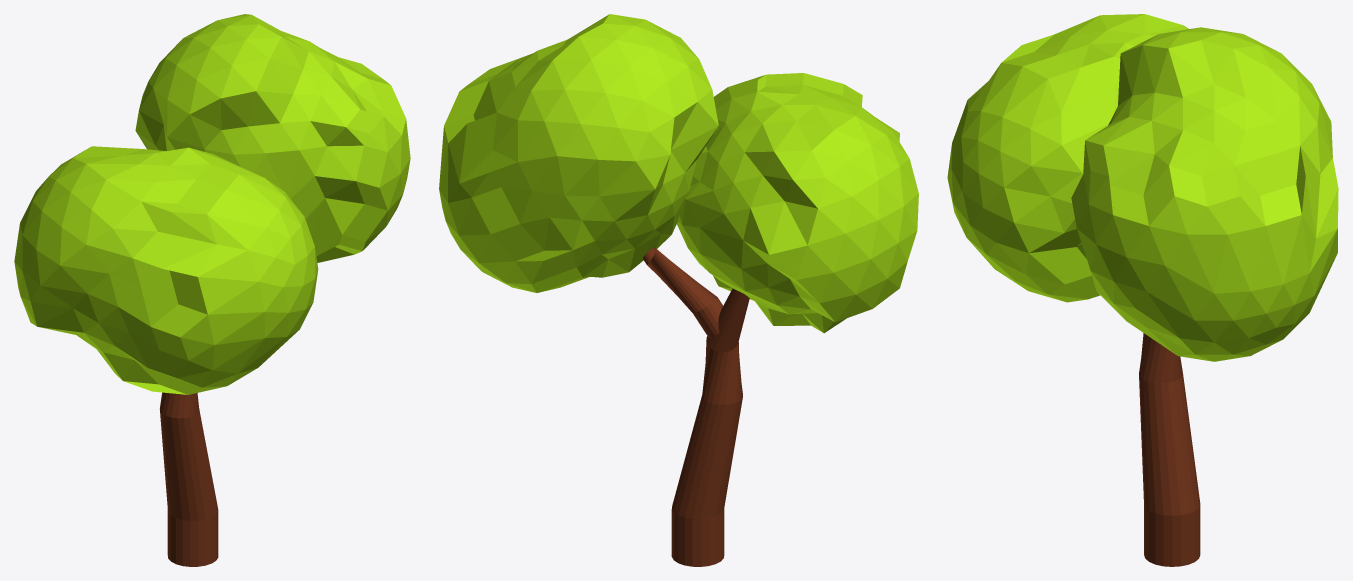
Rendered from Tree_Reg1.fbx.
The picture shows the model from 3 angles, left to right: view 1: azimuth 30°, elevation 25°; view 2: azimuth 150°, elevation 25°; view 3: azimuth 270°, elevation 25°; orthographic projection. The views are drawn at different scales.
Parts seen in each view (by area): view 1: Icosphere, Cylinder; view 2: Icosphere, Cylinder; view 3: Icosphere, Cylinder.
Part boxes in pixels (x1=…): Icosphere: x1=14, y1=14, x2=410, y2=394; Cylinder: x1=159, y1=392, x2=218, y2=566; Icosphere: x1=439, y1=14, x2=918, y2=333; Cylinder: x1=643, y1=247, x2=749, y2=566; Icosphere: x1=947, y1=14, x2=1338, y2=361; Cylinder: x1=1139, y1=333, x2=1200, y2=566.
Size of the model in its own units: 428 by 516 by 328.
